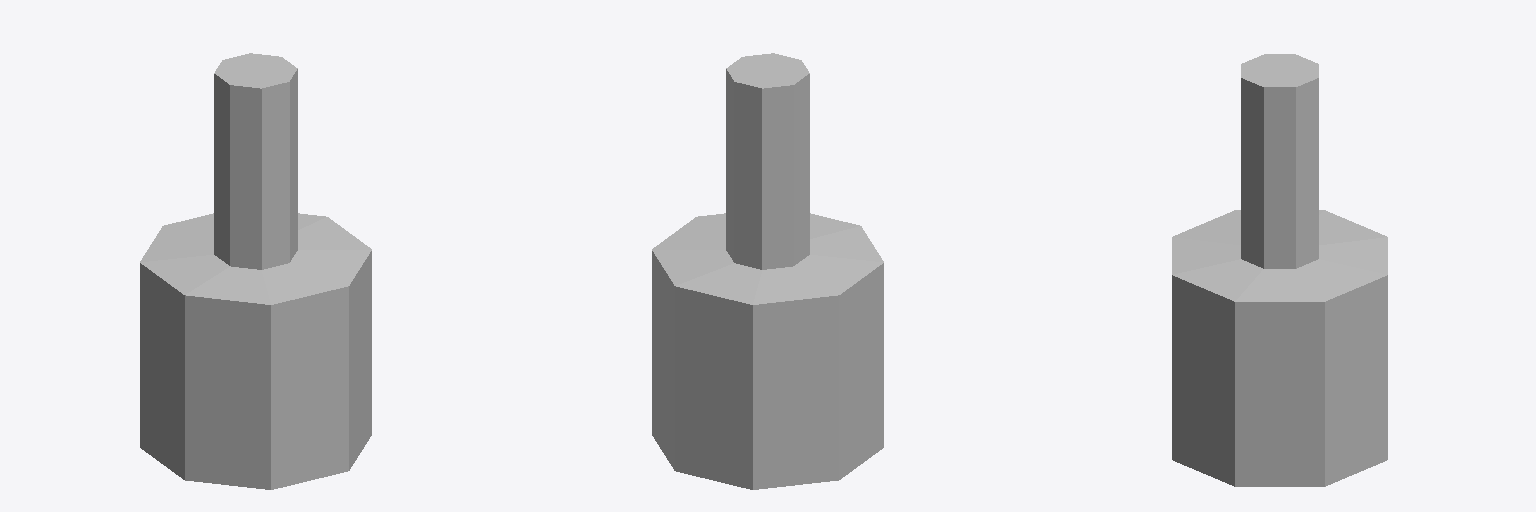
The model's file is pcity_nodes_concrete_pillar_neck.obj.
3 views of the same model, side by side, from view 1: azimuth 30°, elevation 25°; view 2: azimuth 150°, elevation 25°; view 3: azimuth 270°, elevation 25° (orthographic).
Parts seen in each view (by area): view 1: Cylinder; view 2: Cylinder; view 3: Cylinder.
Part boxes in pixels (left/top/right/bottom): Cylinder: left=140, top=53, right=371, bottom=489; Cylinder: left=652, top=53, right=883, bottom=489; Cylinder: left=1172, top=54, right=1387, bottom=486.
Bounding box in the file's own units: 0.5308 × 1 × 0.5308.